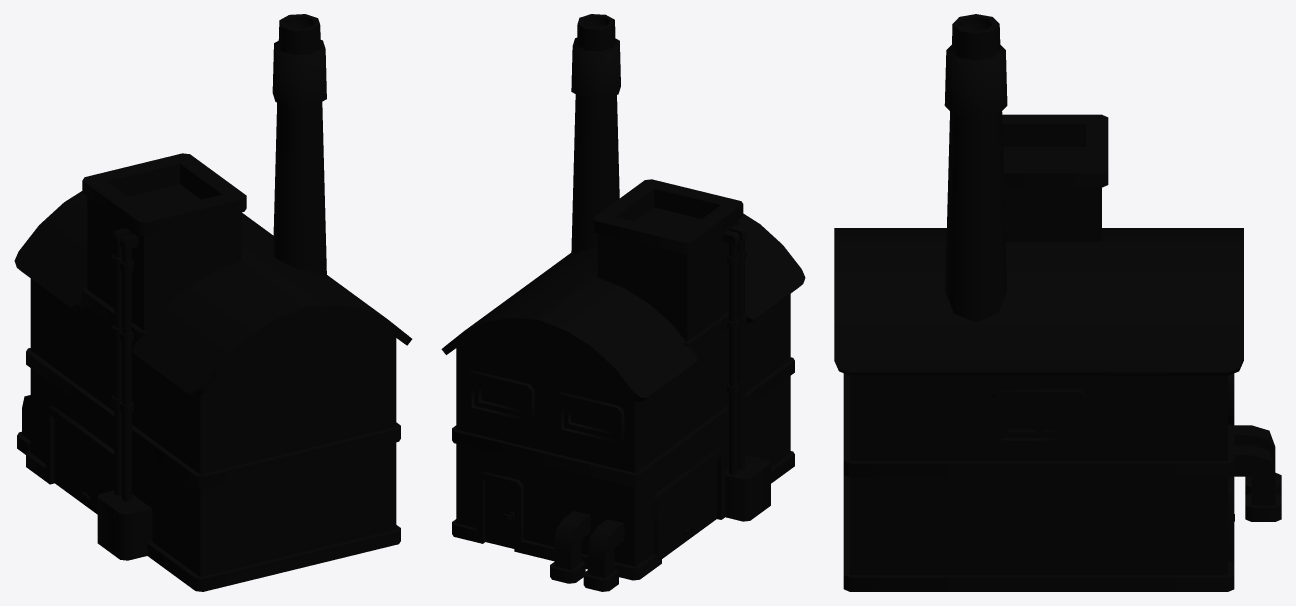
File: building-n.glb
The picture shows the model from 3 angles, left to right: view 1: azimuth 30°, elevation 25°; view 2: azimuth 150°, elevation 25°; view 3: azimuth 270°, elevation 25°; orthographic projection. The views are drawn at different scales.
Parts seen in each view (by area): view 1: building-n; view 2: building-n; view 3: building-n.
Boxes of the visible parts, x1,y1,x2,y2 form: building-n: (14,14,412,591); building-n: (441,14,805,591); building-n: (834,14,1281,591).
Size of the model in its own units: 0.9766 by 1.9 by 1.42.
1 material, 1 textured.
